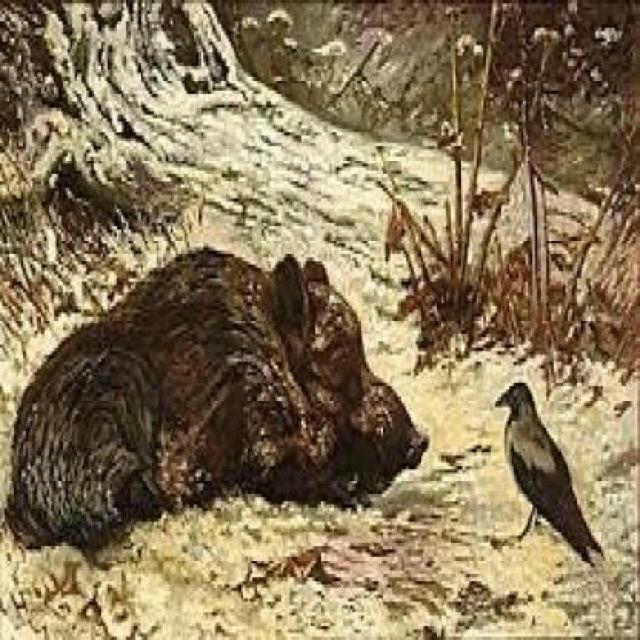wildboar: (2, 239, 432, 553)
